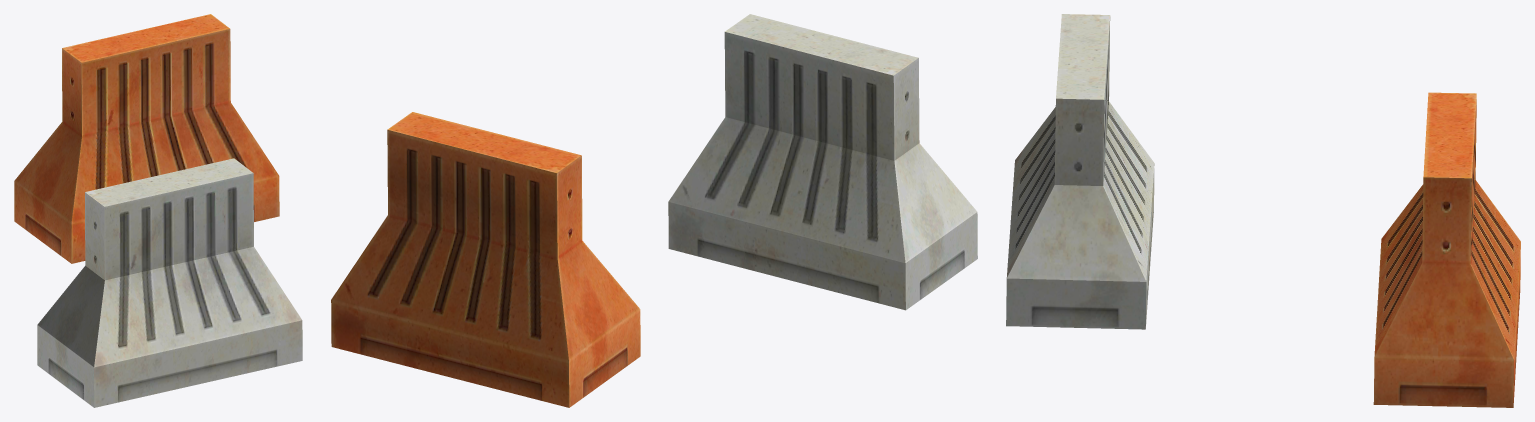
Rendered from luzhang.fbx.
The picture shows the model from 3 angles, left to right: view 1: azimuth 30°, elevation 25°; view 2: azimuth 150°, elevation 25°; view 3: azimuth 270°, elevation 25°; orthographic projection. The views are drawn at different scales.
Visible parts, largest first — view 1: polySurface6, polySurface1; view 2: polySurface1, polySurface6; view 3: polySurface6, polySurface1.
Boxes of the visible parts, box(x1,y1,x2,y2) form: polySurface6: box(37, 158, 302, 407); polySurface1: box(14, 14, 279, 263); polySurface1: box(331, 112, 640, 407); polySurface6: box(668, 14, 977, 310); polySurface6: box(1006, 14, 1154, 329); polySurface1: box(1373, 92, 1520, 407).
Bounding box in the file's own units: 2.52 × 1.29 × 2.8.
1 material, 1 textured.
